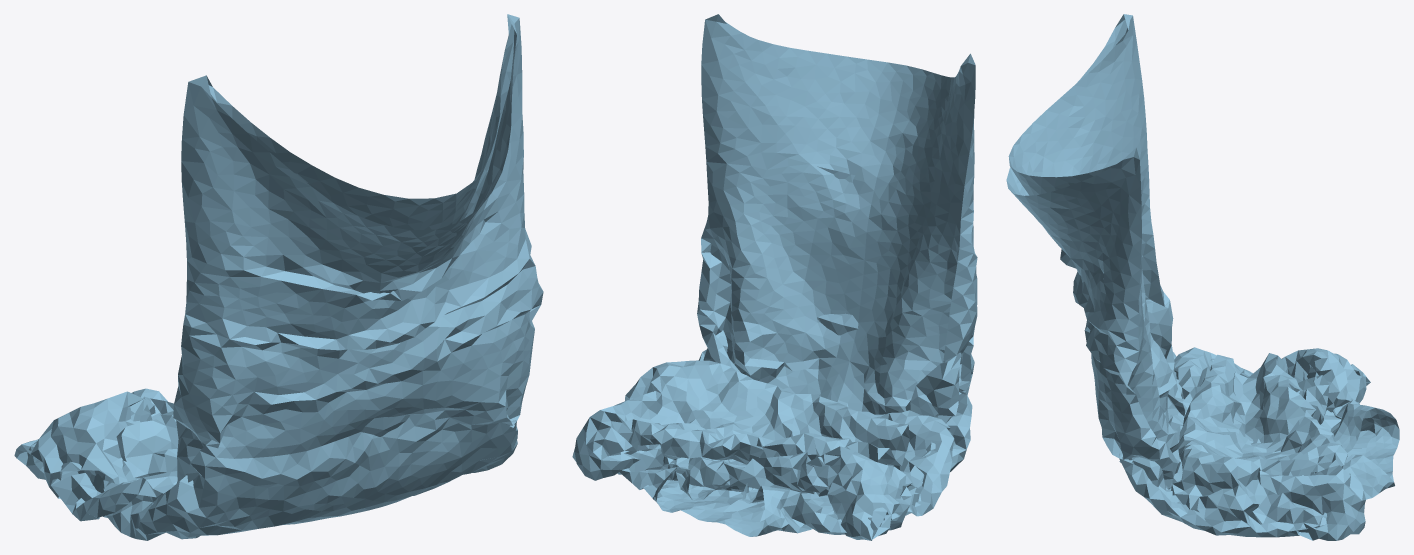
The model's file is frame_11.glb.
The picture shows the model from 3 angles, left to right: view 1: azimuth 30°, elevation 25°; view 2: azimuth 150°, elevation 25°; view 3: azimuth 270°, elevation 25°; orthographic projection. The views are drawn at different scales.
Parts seen in each view (by area): view 1: frame_11.obj; view 2: frame_11.obj; view 3: frame_11.obj.
Boxes of the visible parts, x1,y1,x2,y2 form: frame_11.obj: (14,14,543,540); frame_11.obj: (572,14,977,540); frame_11.obj: (1006,14,1399,540).
Size of the model in its own units: 0.9402 by 1.13 by 1.01.
